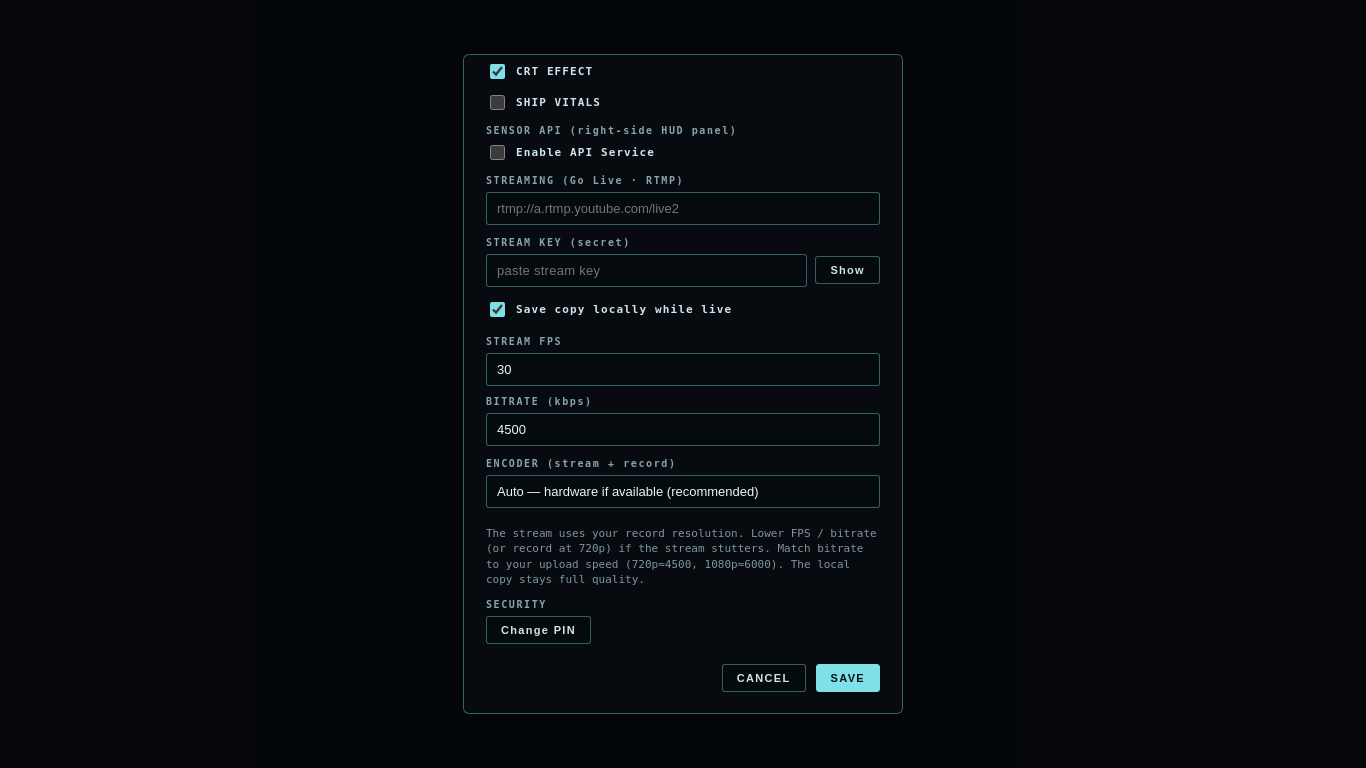
SettingsPanel › opens the Change-PIN flow
(page scrolled)
Click the button "Change PIN". click: (538, 630)
box: [486,616,591,644]
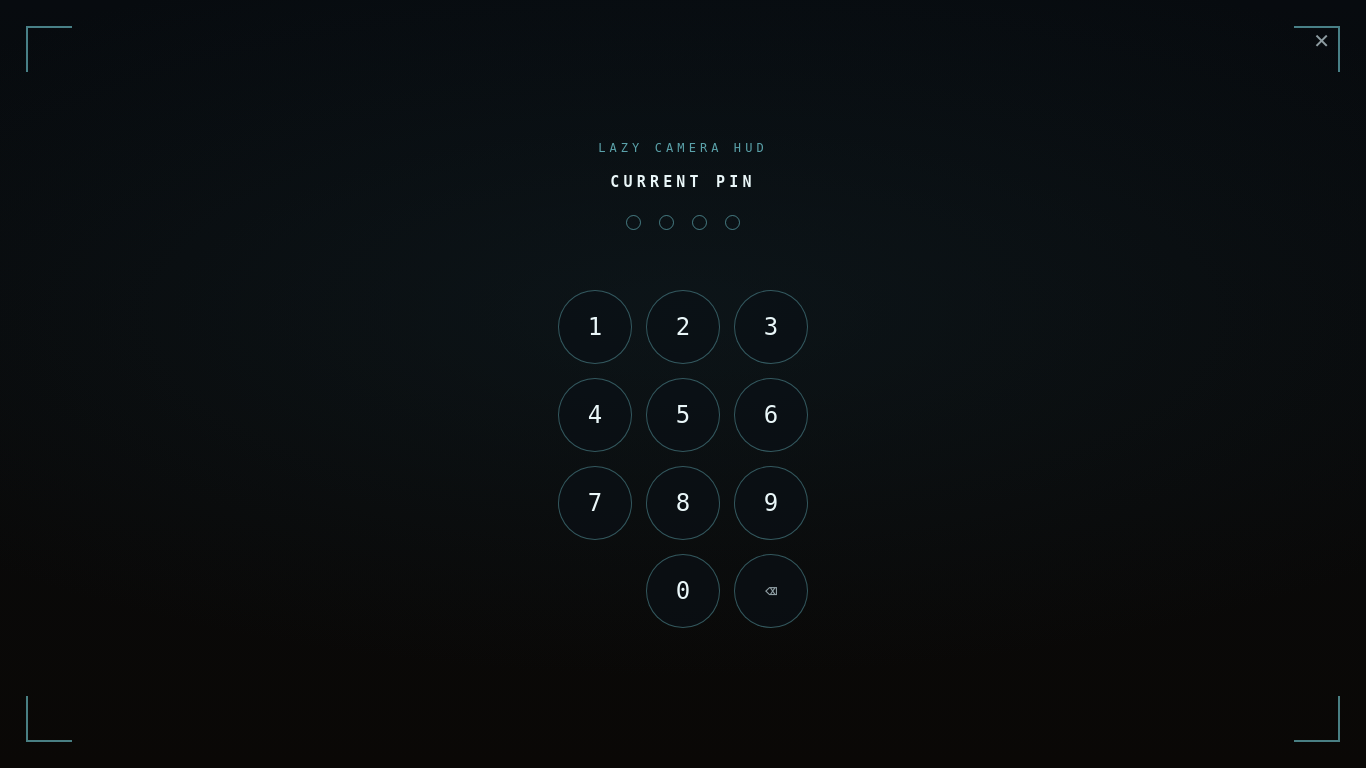
Result: the text "CURRENT PIN" is shown at [610,172,756,190]
